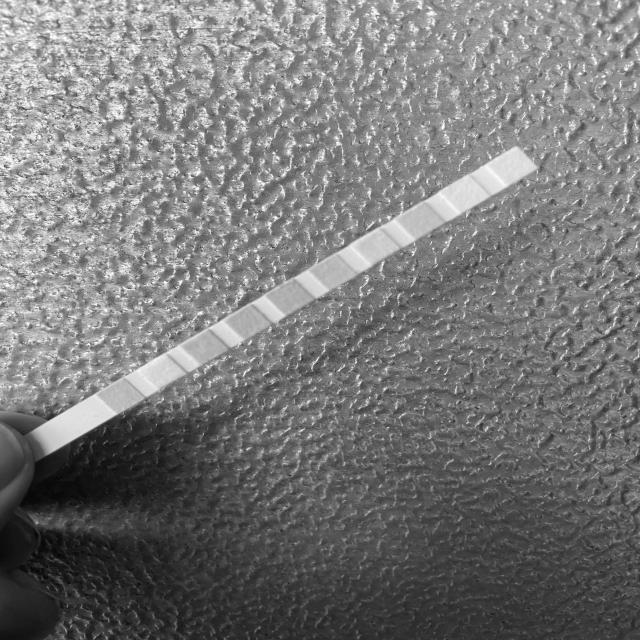Bilirubin: (148, 364, 176, 380)
Blood: (275, 290, 303, 306)
Glucose: (107, 387, 134, 405)
Ketone: (190, 340, 220, 356)
Leukocytes: (495, 158, 529, 172)
Nitrite: (448, 186, 481, 201)
Protein: (360, 239, 390, 255)
SpGravity: (232, 314, 262, 330)
Urobilinogen: (406, 212, 434, 230)
background: (0, 0, 640, 640)
pH: (320, 263, 345, 283)
strip: (39, 147, 538, 449)
